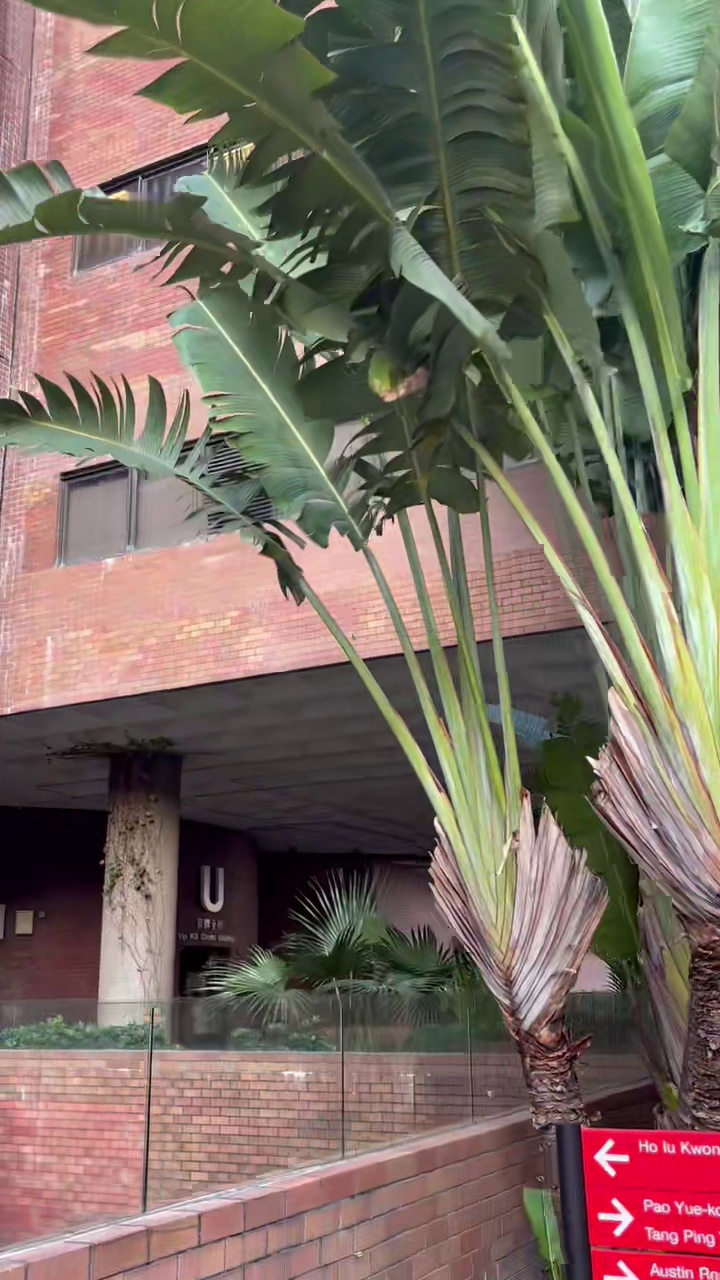Travellers-tree: (32, 0, 719, 1127)
